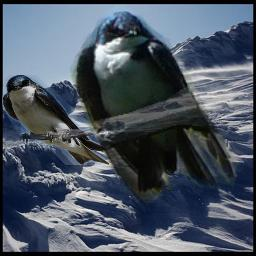Swallow: (70, 6, 241, 211), (2, 75, 109, 165)
